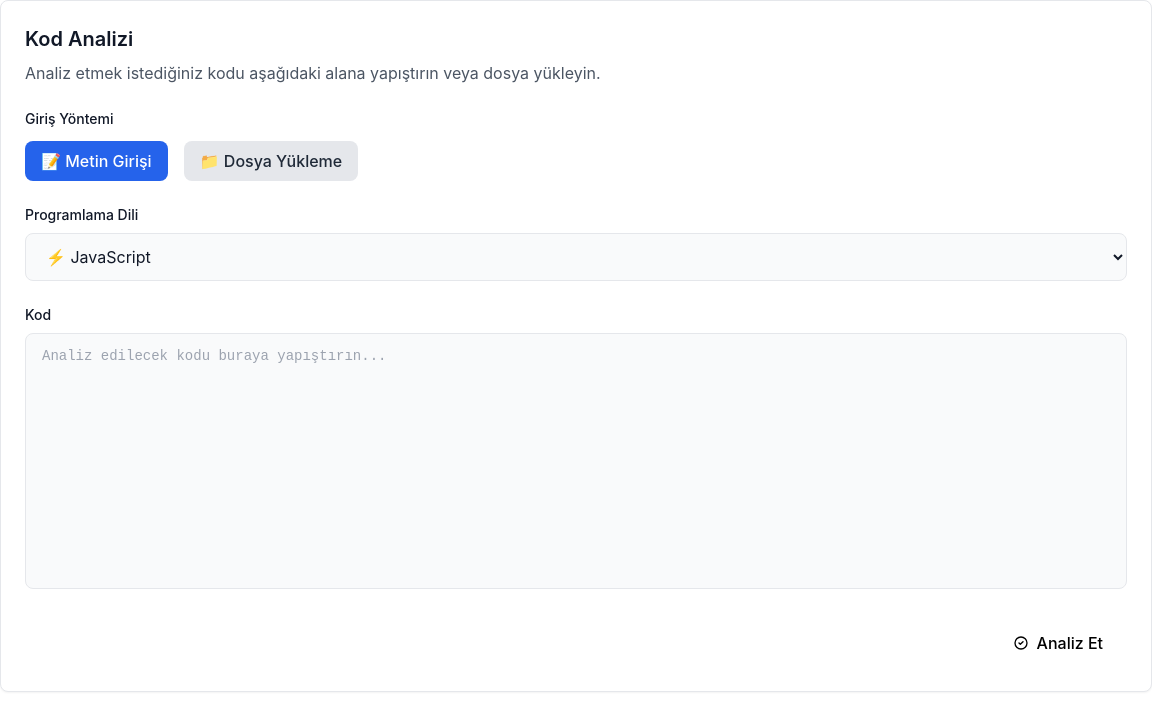
CodeAnalyzer Component › shows character count
In the text box with placeholder "Analiz edilecek kodu buraya yapıştırın...": (576, 461) [25,333,1127,589], type "console.log(\"Hello World\");"
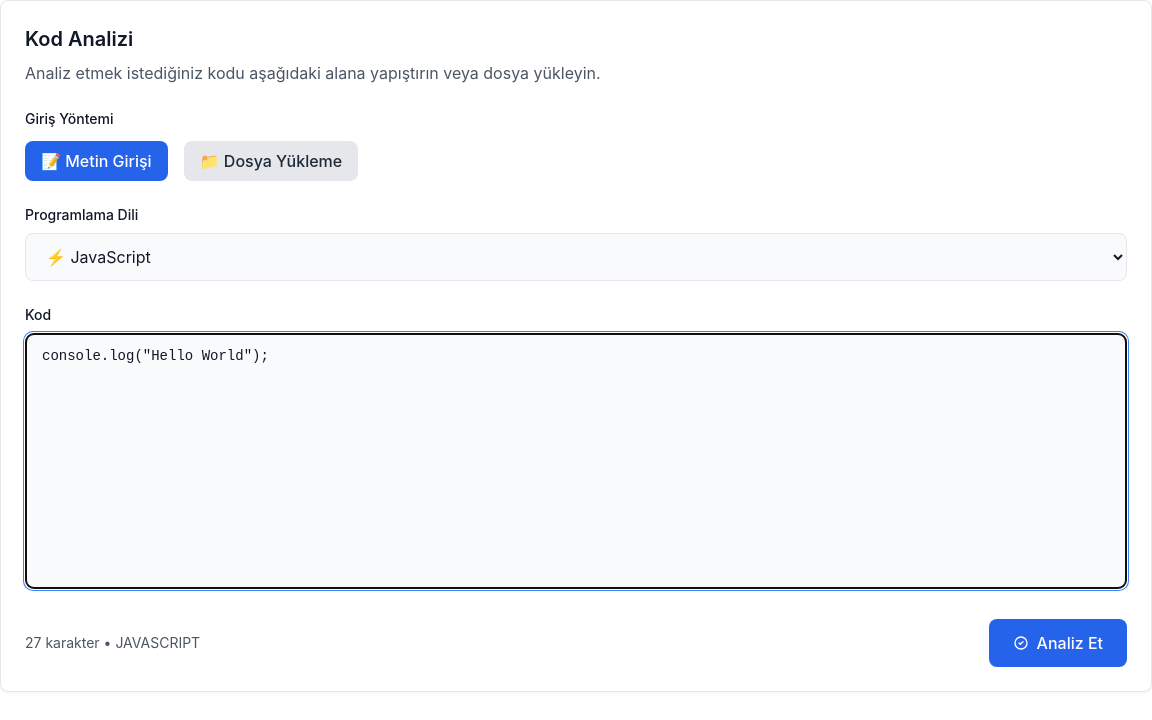
expect the text "27 karakter • JAVASCRIPT" is shown: met, box [25,634,200,651]
